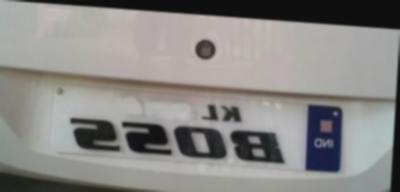License_Plate: (49, 85, 341, 172)
